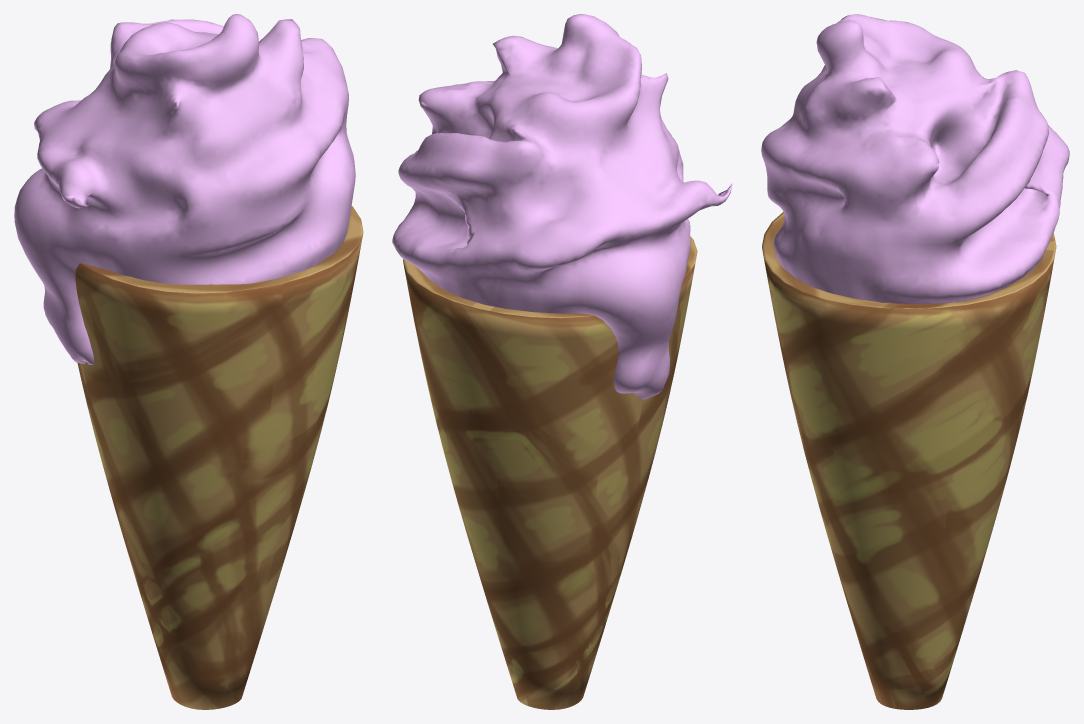
The model's file is icecream.glb.
3 renders of one model, left to right at view 1: azimuth 30°, elevation 25°; view 2: azimuth 150°, elevation 25°; view 3: azimuth 270°, elevation 25°, orthographic. The views are drawn at different scales.
Visible parts, largest first — view 1: Cube, Sphere; view 2: Sphere, Cube; view 3: Cube, Sphere.
Boxes of the visible parts, x1,y1,x2,y2 form: Cube: [75, 206, 363, 709]; Sphere: [14, 14, 355, 365]; Sphere: [392, 14, 732, 399]; Cube: [403, 236, 697, 709]; Cube: [762, 212, 1056, 709]; Sphere: [761, 14, 1069, 303].
Size of the model in its own units: 5.86 by 13.16 by 5.45.
Materials: 2 (1 with a texture image).
